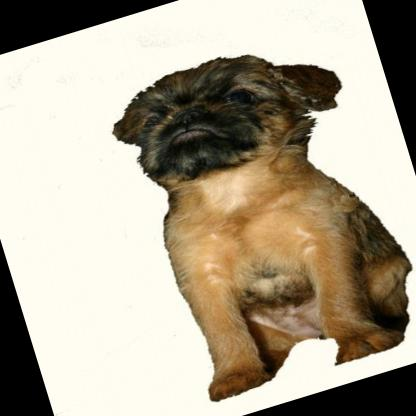Brabancon_griffon: (97, 19, 416, 407)
